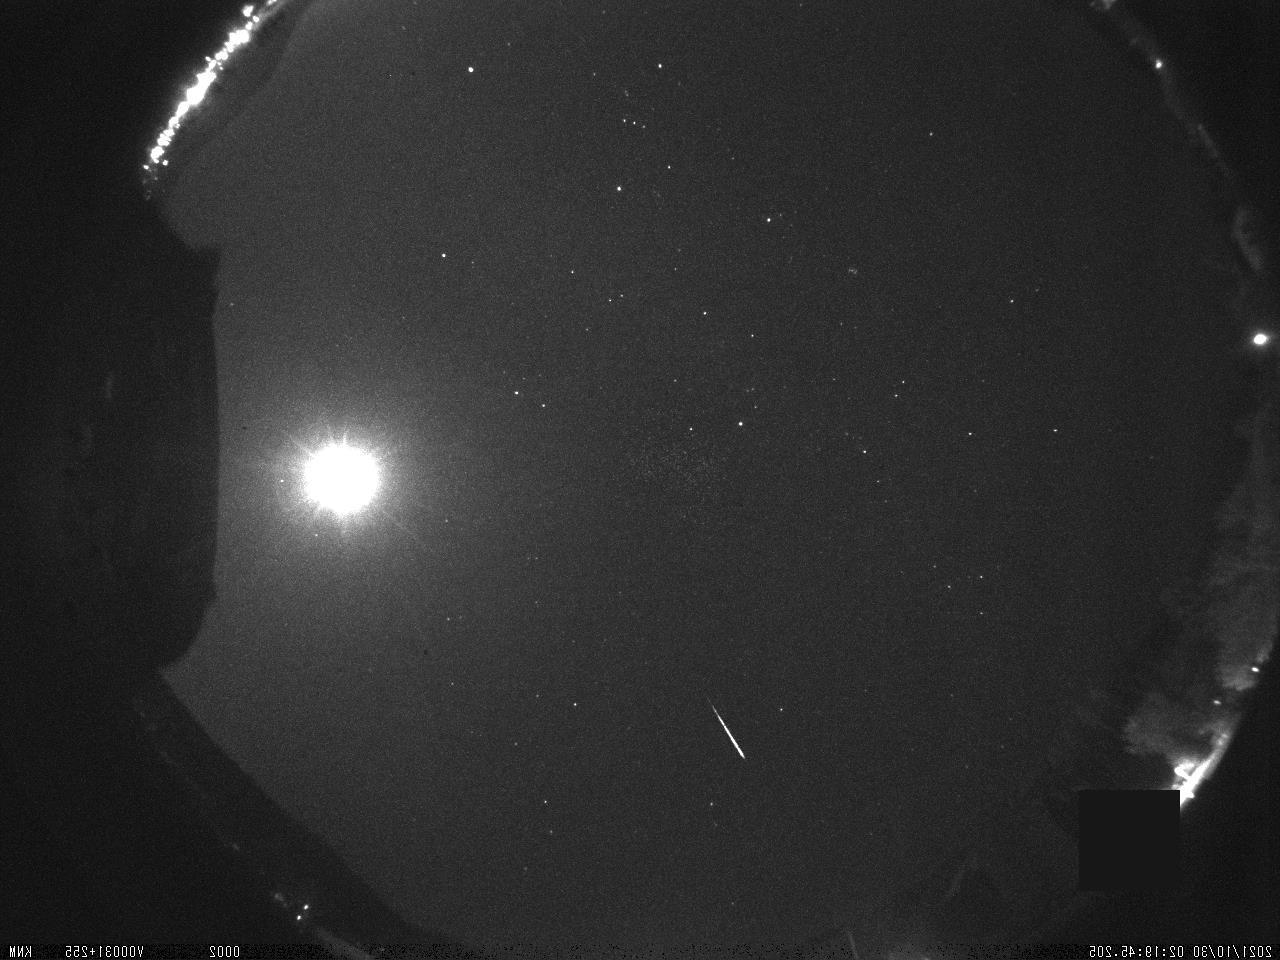meteor: (701, 691, 751, 768)
